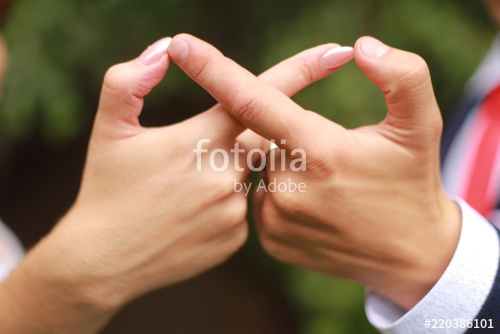finger: (169, 31, 347, 164), (172, 37, 352, 151)
